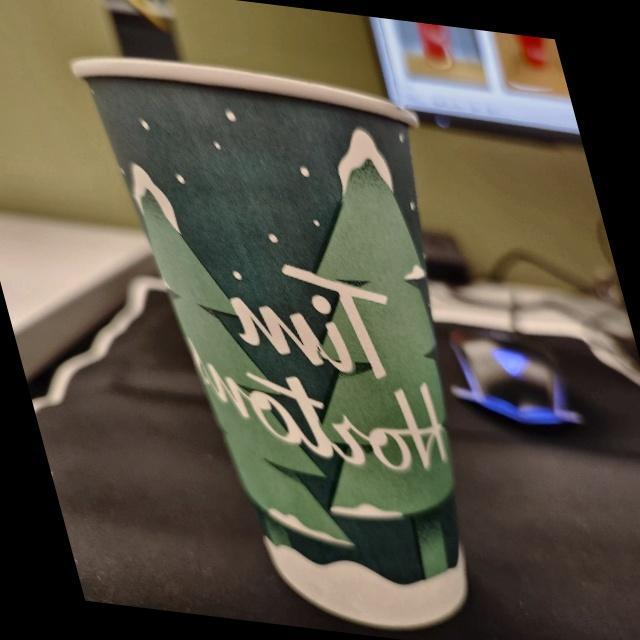timmies: (64, 44, 484, 640)
